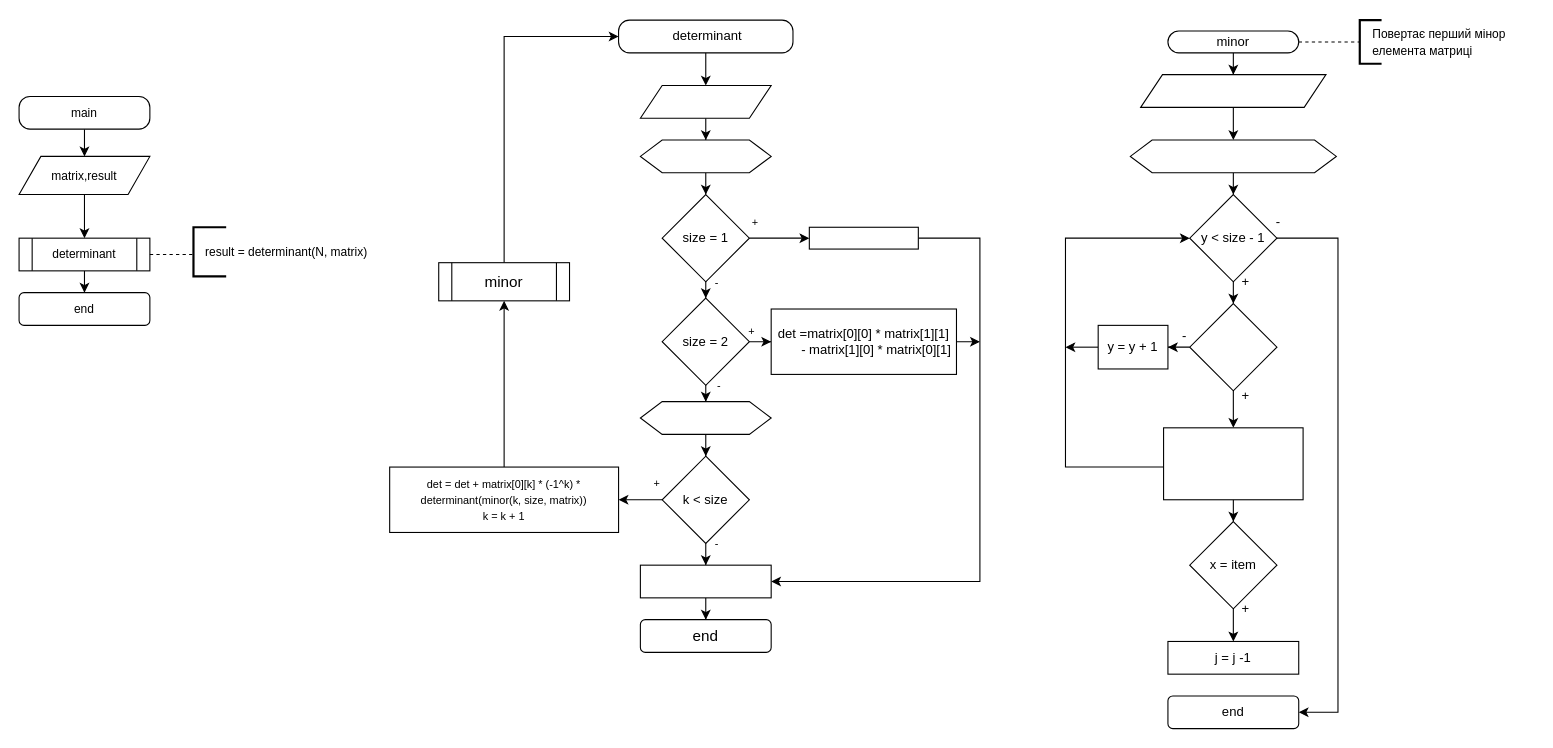
Some shapes in this 1553 by 748 pixel diagram are drawn without their labels. The centre of each missing label's shape, as x and y in pixels:
det = 0: the point at 705,156
det = matrix[0][0]: the point at 863,237
item, size,matrix, min: the point at 1233,90
k = 0: the point at 705,417
min[y][j] = matrix[y][x] j = j+1 x = x+1: the point at 1232,463
return det: the point at 705,581
size, matrix: the point at 705,101
x < size: the point at 1233,346
x = y = j = 0: the point at 1232,156
